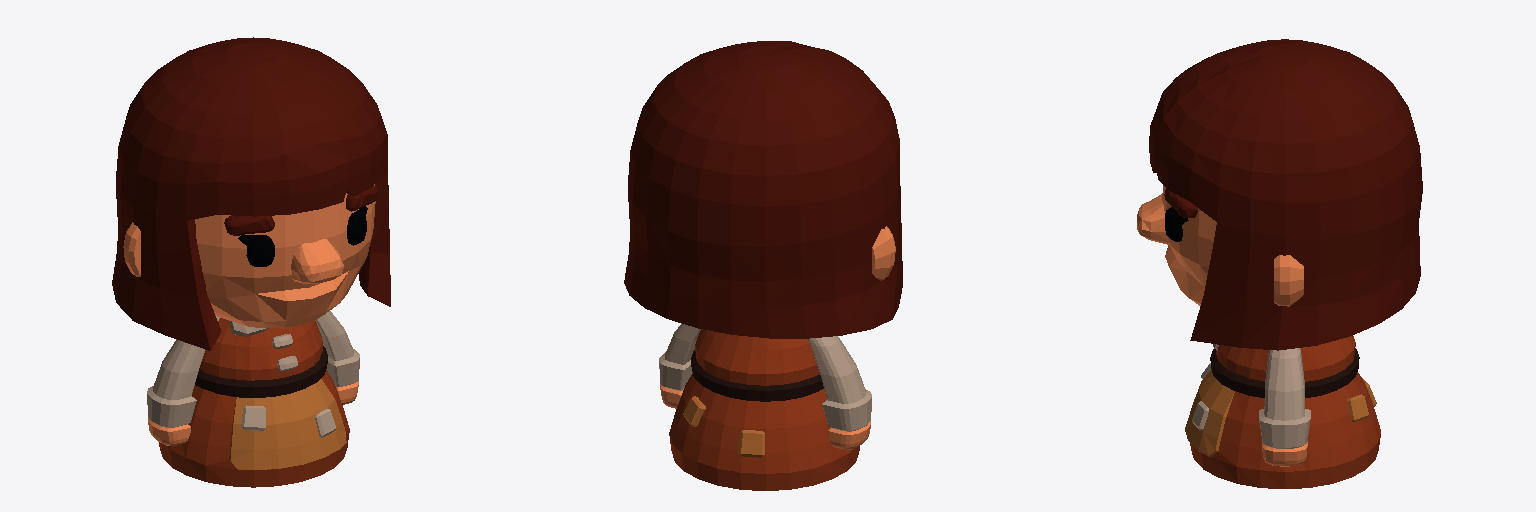
The model's file is character_villager_female2.obj.
3 renders of one model, left to right at view 1: azimuth 30°, elevation 25°; view 2: azimuth 150°, elevation 25°; view 3: azimuth 270°, elevation 25°, orthographic.
Visible parts, largest first — view 1: character_villager_female2_head_Cube.902, character_villager_female2_body_Cube.903, character_villager_female2_armRight_Cube.905, character_villager_female2_armLeft_Cube.904; view 2: character_villager_female2_head_Cube.902, character_villager_female2_body_Cube.903, character_villager_female2_armRight_Cube.905, character_villager_female2_armLeft_Cube.904; view 3: character_villager_female2_head_Cube.902, character_villager_female2_body_Cube.903, character_villager_female2_armLeft_Cube.904.
Boxes of the visible parts, x1=… form: character_villager_female2_head_Cube.902: x1=112, y1=37, x2=390, y2=350; character_villager_female2_body_Cube.903: x1=159, y1=318, x2=349, y2=487; character_villager_female2_armRight_Cube.905: x1=147, y1=316, x2=219, y2=445; character_villager_female2_armLeft_Cube.904: x1=315, y1=311, x2=359, y2=404; character_villager_female2_head_Cube.902: x1=624, y1=41, x2=902, y2=338; character_villager_female2_body_Cube.903: x1=669, y1=329, x2=859, y2=490; character_villager_female2_armRight_Cube.905: x1=808, y1=336, x2=871, y2=449; character_villager_female2_armLeft_Cube.904: x1=659, y1=323, x2=700, y2=408; character_villager_female2_head_Cube.902: x1=1137, y1=39, x2=1422, y2=350; character_villager_female2_body_Cube.903: x1=1185, y1=336, x2=1380, y2=488; character_villager_female2_armLeft_Cube.904: x1=1259, y1=348, x2=1310, y2=466.
Bounding box in the file's own units: 1.18 × 1.78 × 1.14.